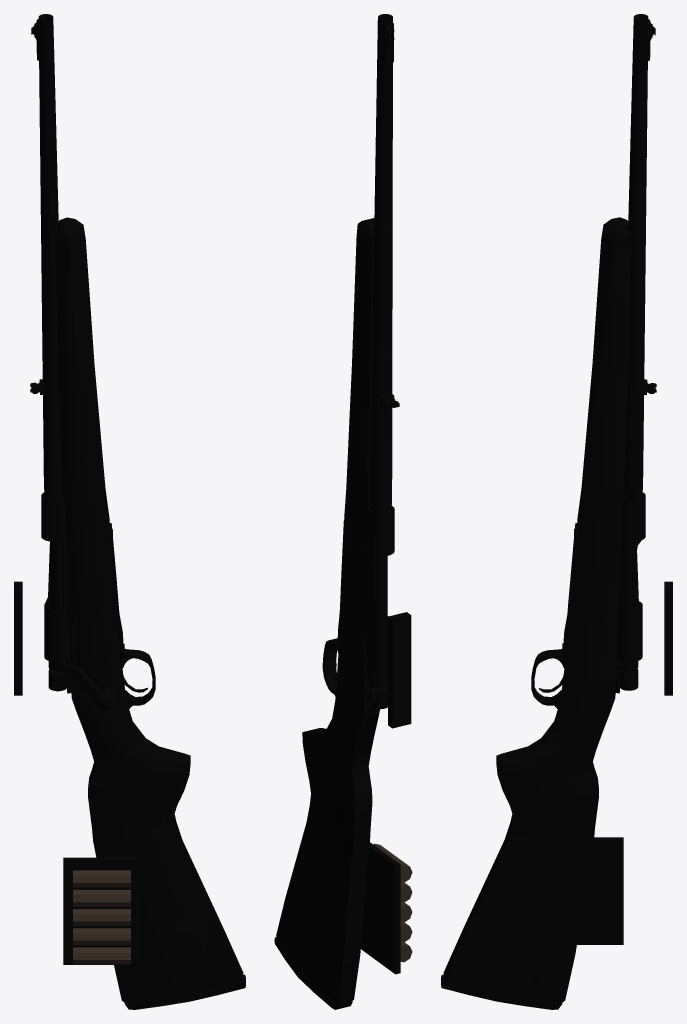
Rendered from Win70__Mount_ScopeBase__ShellHolder_Butt.fbx.
The picture shows the model from 3 angles, left to right: view 1: azimuth 90°, elevation 25°; view 2: azimuth 210°, elevation 25°; view 3: azimuth 270°, elevation 25°; orthographic projection. The views are drawn at different scales.
Parts seen in each view (by area): view 1: asset_Win70.001; view 2: asset_Win70.001; view 3: asset_Win70.001.
Boxes of the visible parts, x1,y1,x2,y2 form: asset_Win70.001: [14, 14, 245, 1009]; asset_Win70.001: [274, 14, 412, 1009]; asset_Win70.001: [441, 14, 672, 1009].
Size of the model in its own units: 0.0385 by 0.678 by 0.1441.
